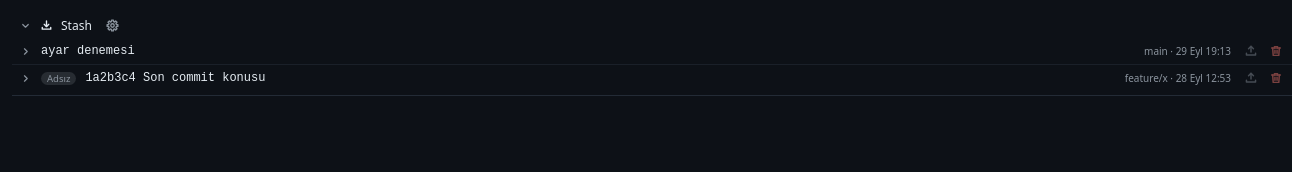
silme › hata kalıcı kutuda gösteriliyor
This screenshot has width=1292, height=172.
Step 1. Click the 1st button named "Stash'i sil" → (1276, 51), box [1264,40,1288,62]
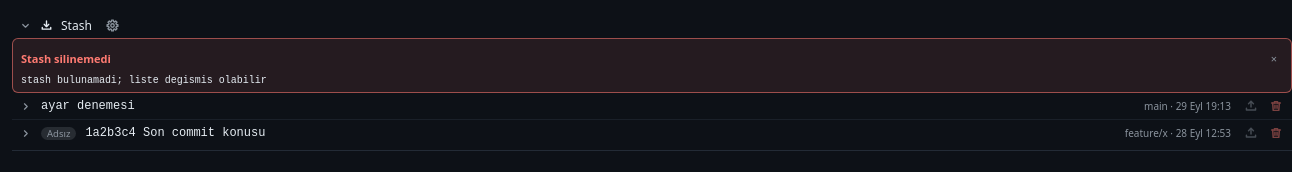
expect the message with class "git-commit-error" shows "Stash silinemedi": met, box [21,50,111,66]
expect the text "stash bulunamadi; liste degismis olabilir" is shown: met, box [21,75,267,86]
